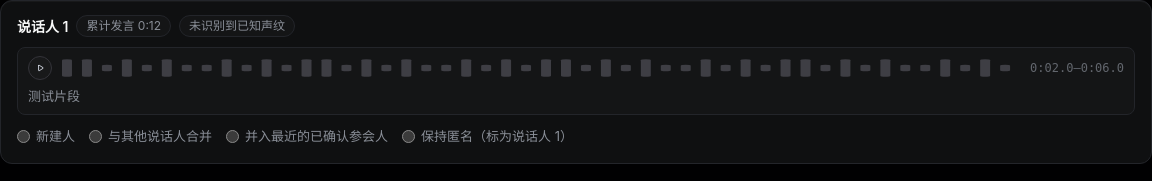
Scenario: 试听片段播放器 › 点击波形按相对位置跳转并开始播放，显示片段内进度
This screenshot has width=1152, height=181.
Click the icon with class "clip-wave" at (541, 68), box [62, 56, 1020, 80]
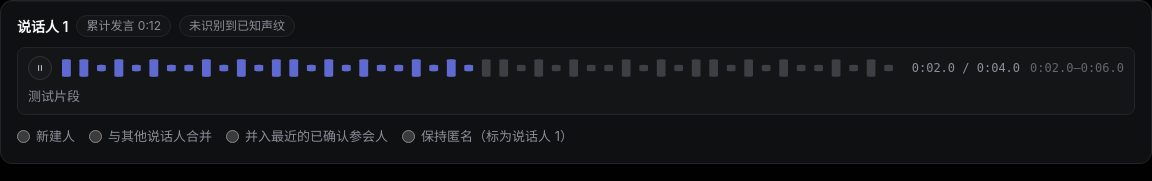
Now the text "0:02.0 / 0:04.0" is shown, box [912, 59, 1020, 77]
Now the button named "暂停 0:02.0–0:06.0" is shown, box [28, 56, 52, 80]
